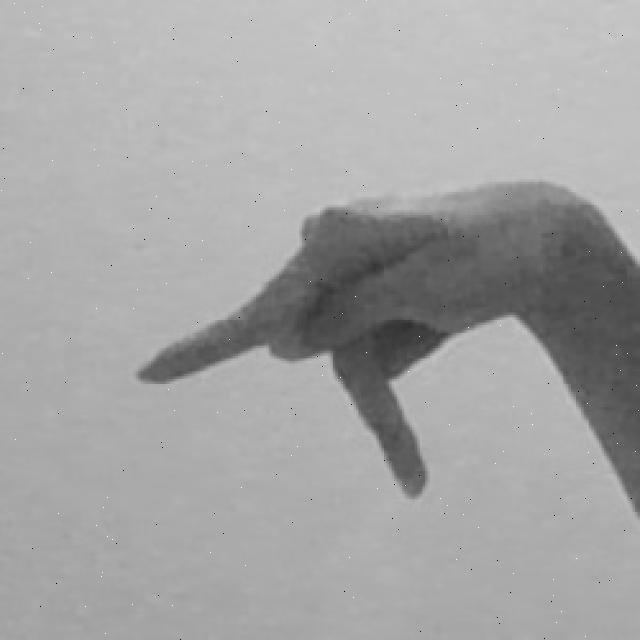P: (128, 170, 640, 519)
